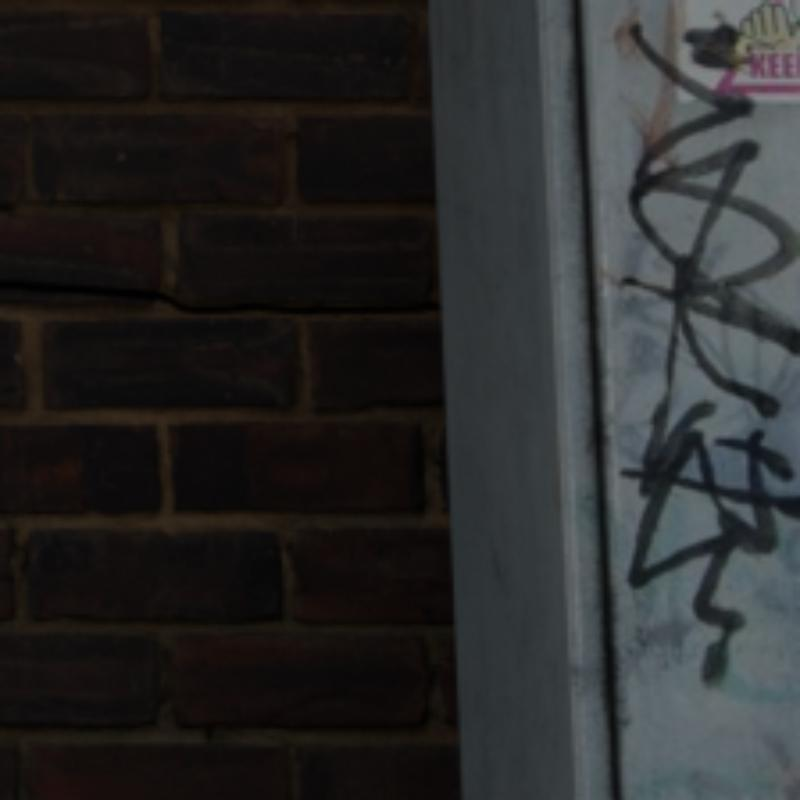crack: (4, 279, 439, 314)
